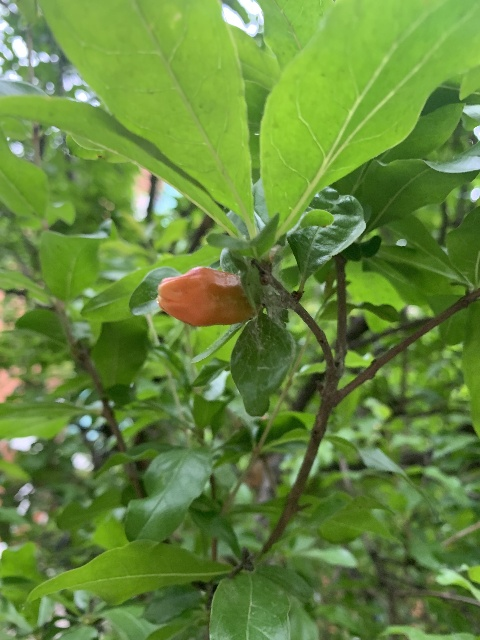bud: (156, 266, 254, 326)
